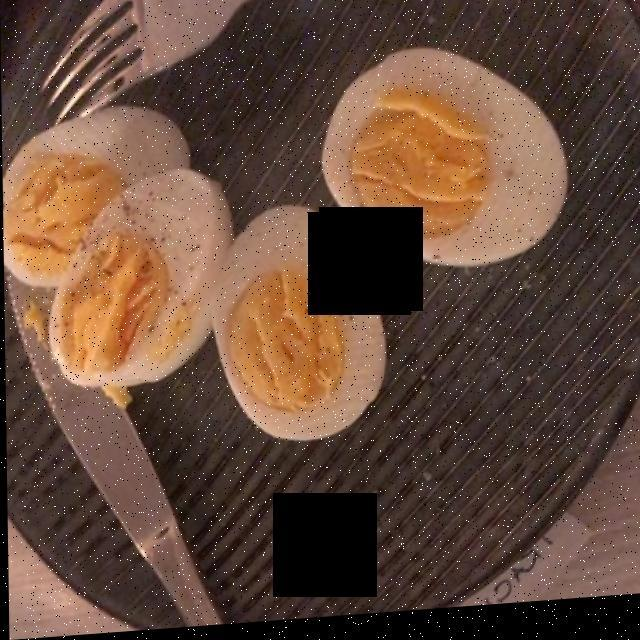egg: (10, 42, 570, 454)
